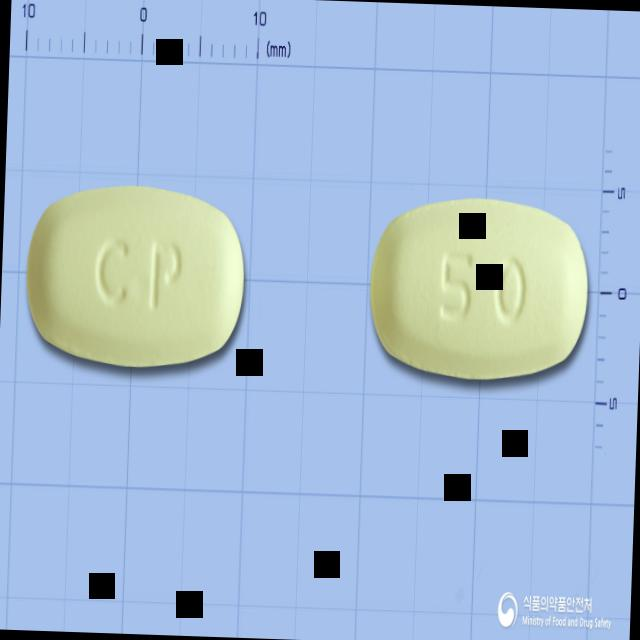Cefick Cap: (23, 180, 248, 372), (368, 194, 592, 380)
